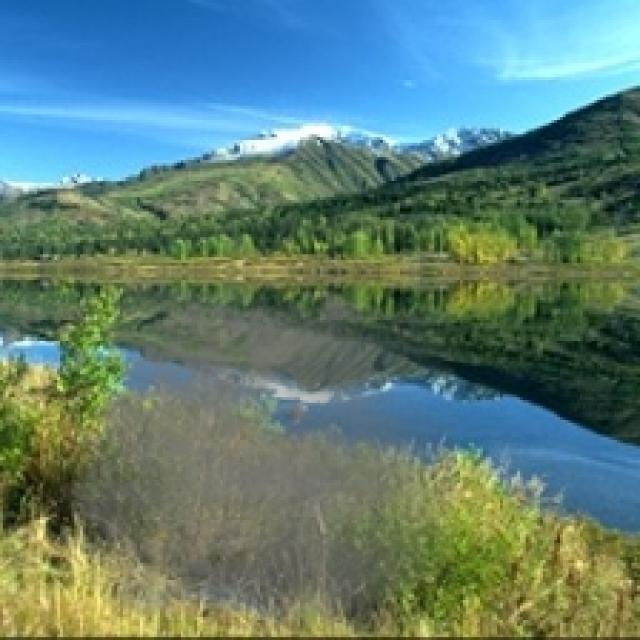Smoke: (42, 277, 458, 637)
